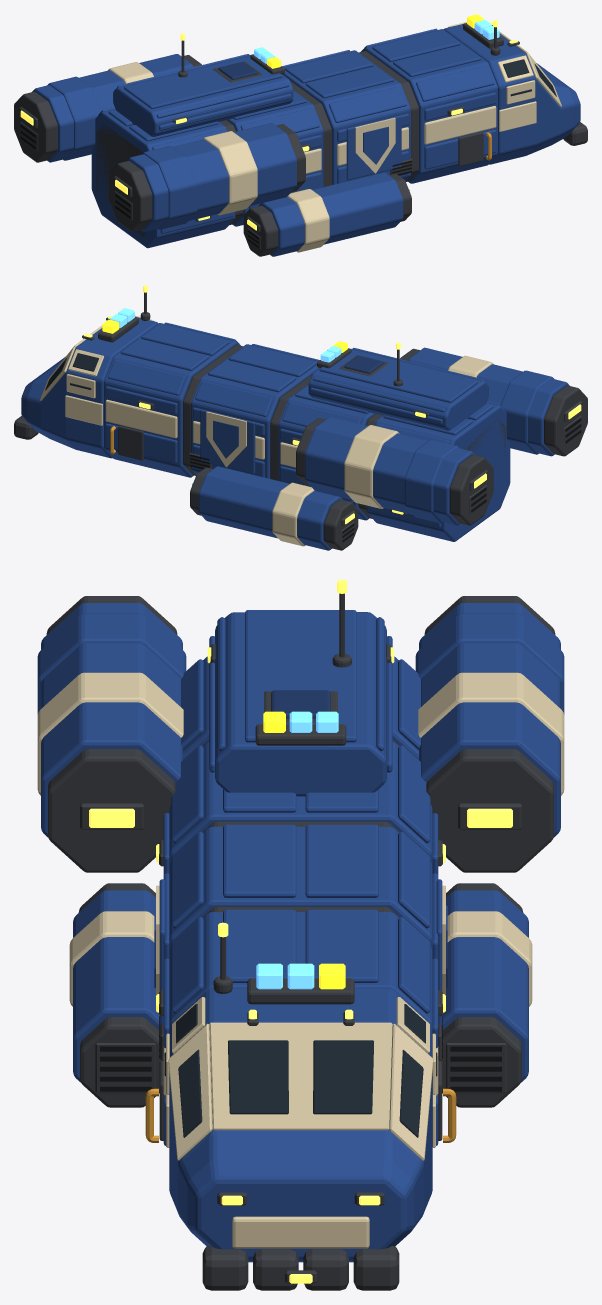
Rendered from police-light.glb.
3 views of the same model, one above another, from view 1: azimuth 30°, elevation 25°; view 2: azimuth 150°, elevation 25°; view 3: azimuth 270°, elevation 25° (orthographic). The views are drawn at different scales.
Visible parts, largest first — view 1: hull body, drive body; view 2: hull body, drive body; view 3: hull body, drive body.
Part boxes in pixels (x1,y1,x2,y2): hull body: [91, 22, 587, 248]; drive body: [14, 54, 411, 256]; hull body: [14, 292, 510, 541]; drive body: [190, 347, 587, 550]; hull body: [145, 593, 456, 1290]; drive body: [37, 596, 564, 1107].
Bounding box in the file's own units: 9.98 × 3.63 × 4.6.
